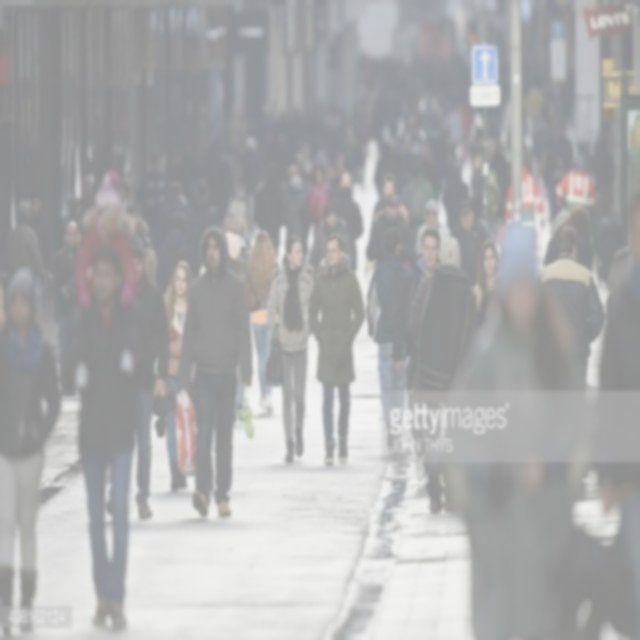pessoa: (440, 222, 573, 638), (70, 245, 148, 631), (171, 222, 255, 522), (0, 259, 65, 634), (370, 72, 512, 238), (597, 110, 639, 639), (529, 223, 606, 502), (100, 229, 170, 526), (408, 234, 480, 516), (24, 167, 144, 313), (306, 230, 366, 468), (191, 105, 368, 181), (394, 226, 444, 483), (188, 258, 238, 492), (264, 234, 314, 464), (365, 226, 414, 454), (520, 82, 598, 222), (144, 179, 225, 296), (162, 255, 197, 497), (220, 223, 256, 432), (244, 226, 282, 417), (224, 181, 326, 226), (22, 192, 54, 335), (307, 202, 358, 282), (3, 198, 48, 288), (542, 204, 596, 272), (450, 196, 488, 286), (505, 146, 546, 226), (365, 190, 411, 261), (331, 170, 363, 272), (54, 218, 78, 350), (413, 195, 452, 264), (470, 236, 502, 313), (134, 215, 160, 288), (144, 146, 192, 181), (0, 264, 7, 326)
